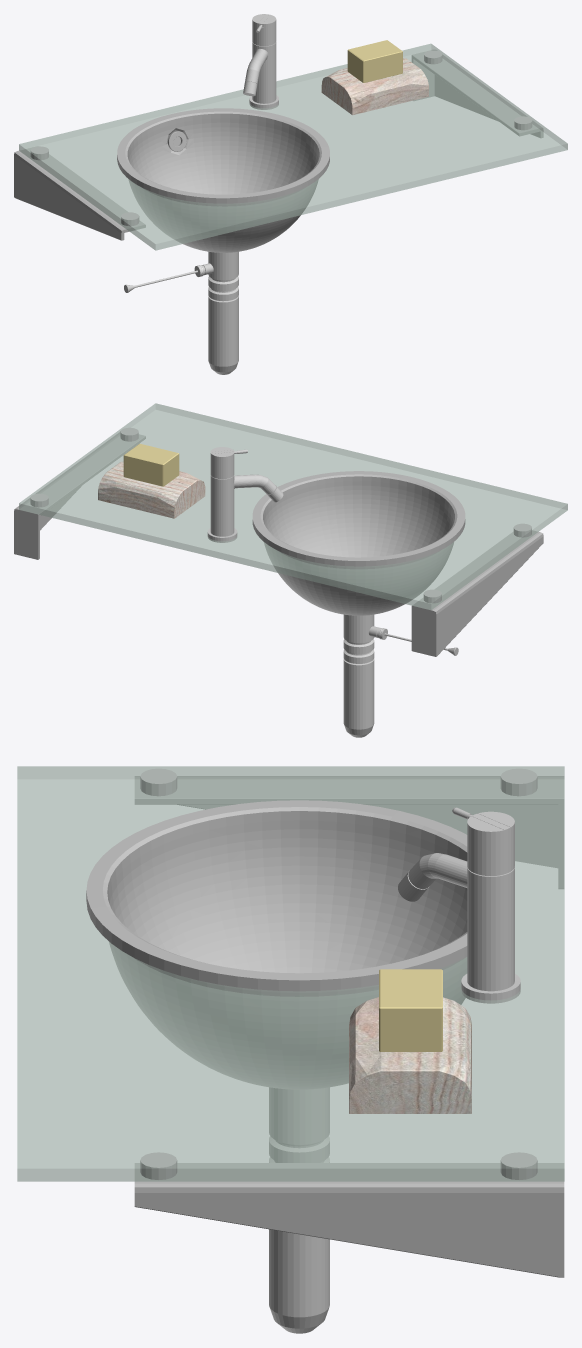
The model's file is sweethome3d-scopia-washbasin-0.glb.
3 renders of one model, top to bottom at view 1: azimuth 30°, elevation 25°; view 2: azimuth 150°, elevation 25°; view 3: azimuth 270°, elevation 25°, orthographic. The views are drawn at different scales.
Visible parts, largest first — view 1: cristal_bajo.002_Circle.001, cristal_bajo_Circle, pica_agujereada_Sphere.001, soporte_r_Plane.001, tuberia_desague_Cylinder, soporte_l_Plane.002, jabonera_madera_Cube.003, grifo_mono_Circle.003, jabon_Cube.004; view 2: cristal_bajo.002_Circle.001, cristal_bajo_Circle, pica_agujereada_Sphere.001, soporte_r_Plane.001, tuberia_desague_Cylinder, soporte_l_Plane.002, jabonera_madera_Cube.003, grifo_mono_Circle.003, jabon_Cube.004; view 3: cristal_bajo.002_Circle.001, cristal_bajo_Circle, pica_agujereada_Sphere.001, soporte_l_Plane.002, soporte_r_Plane.001, grifo_mono_Circle.003, jabonera_madera_Cube.003, tuberia_desague_Cylinder, jabon_Cube.004, soporte_redondo_Cylinder.004, soporte_redondo.002_Cylinder.006, soporte_redondo.001_Cylinder.005 (+1 smaller).
Boxes of the visible parts, <box> form: cristal_bajo.002_Circle.001: <box>19,44,567,250</box>; cristal_bajo_Circle: <box>19,44,567,243</box>; pica_agujereada_Sphere.001: <box>117,108,329,252</box>; soporte_r_Plane.001: <box>14,146,145,240</box>; tuberia_desague_Cylinder: <box>124,251,238,374</box>; soporte_l_Plane.002: <box>412,50,543,137</box>; jabonera_madera_Cube.003: <box>321,58,428,115</box>; grifo_mono_Circle.003: <box>243,14,278,109</box>; jabon_Cube.004: <box>347,40,402,82</box>; cristal_bajo.002_Circle.001: <box>19,404,567,609</box>; cristal_bajo_Circle: <box>19,403,566,603</box>; pica_agujereada_Sphere.001: <box>252,471,465,615</box>; soporte_r_Plane.001: <box>411,530,543,656</box>; tuberia_desague_Cylinder: <box>343,614,458,737</box>; soporte_l_Plane.002: <box>14,432,145,559</box>; jabonera_madera_Cube.003: <box>98,461,205,518</box>; grifo_mono_Circle.003: <box>207,447,283,542</box>; jabon_Cube.004: <box>123,443,179,486</box>; cristal_bajo.002_Circle.001: <box>17,766,564,1181</box>; cristal_bajo_Circle: <box>17,766,564,1168</box>; pica_agujereada_Sphere.001: <box>86,800,467,1089</box>; soporte_l_Plane.002: <box>134,1163,564,1277</box>; soporte_r_Plane.001: <box>135,776,563,888</box>; grifo_mono_Circle.003: <box>398,807,520,1003</box>; jabonera_madera_Cube.003: <box>349,997,471,1113</box>; tuberia_desague_Cylinder: <box>269,1087,329,1333</box>; jabon_Cube.004: <box>379,969,442,1051</box>; soporte_redondo_Cylinder.004: <box>500,768,537,796</box>; soporte_redondo.002_Cylinder.006: <box>140,1152,177,1179</box>; soporte_redondo.001_Cylinder.005: <box>140,768,177,796</box>.
Size of the model in its own units: 71.98 by 48.44 by 40.38.
9 materials, 2 textured.
